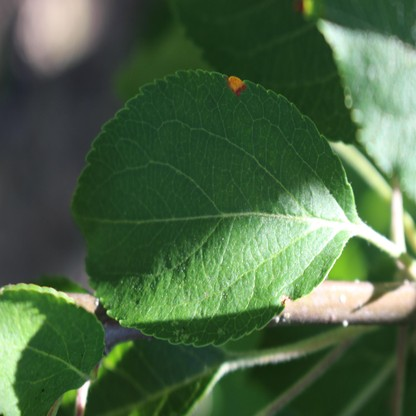rust: (226, 74, 246, 96)
